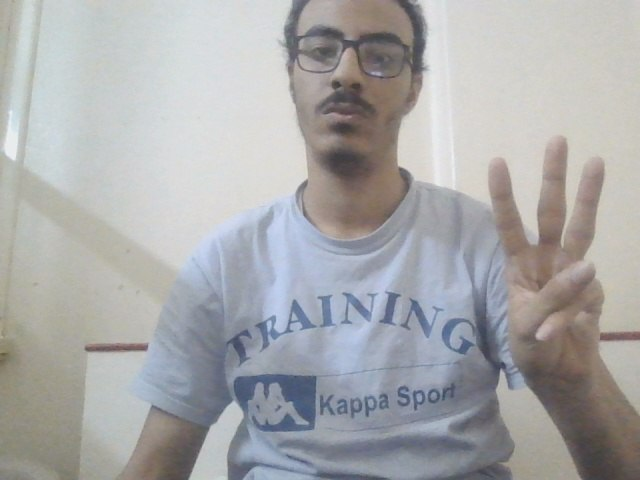Water: (480, 132, 617, 385)
